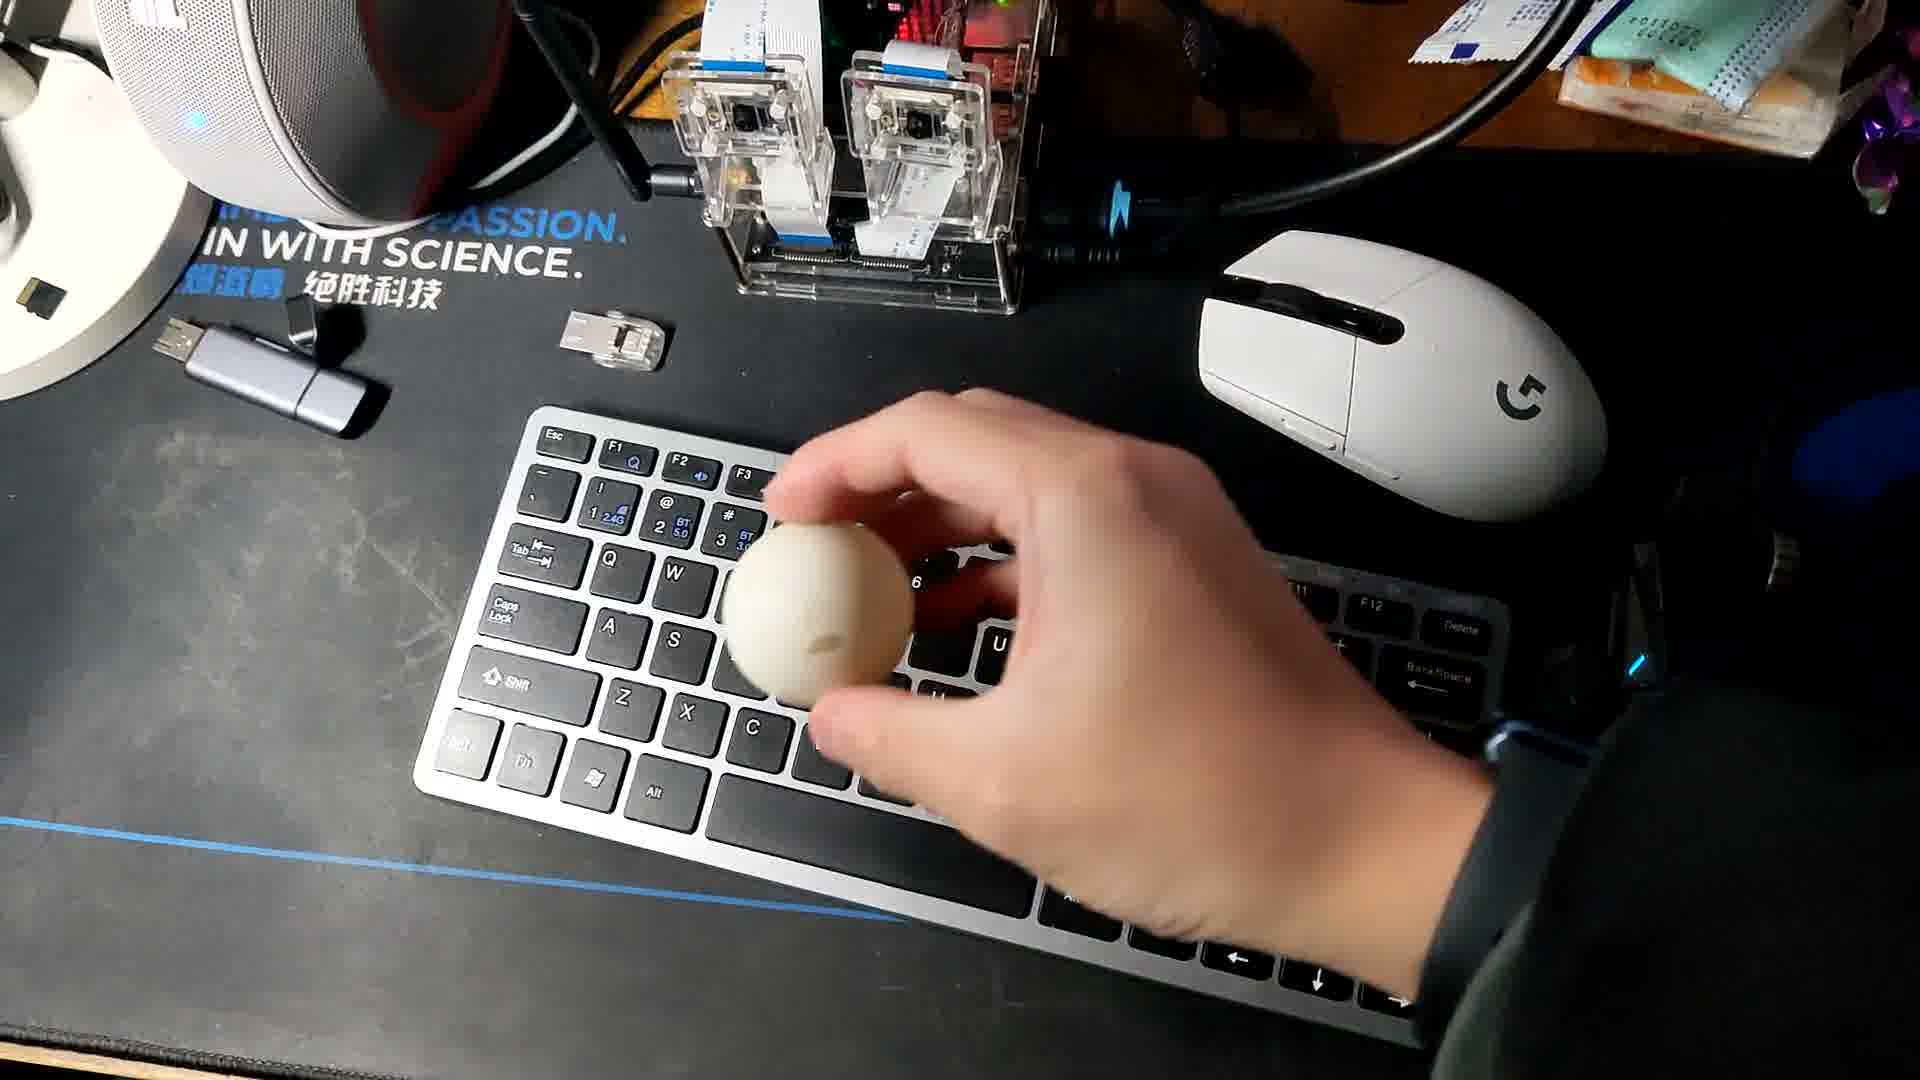Ball: (717, 524, 915, 699)
